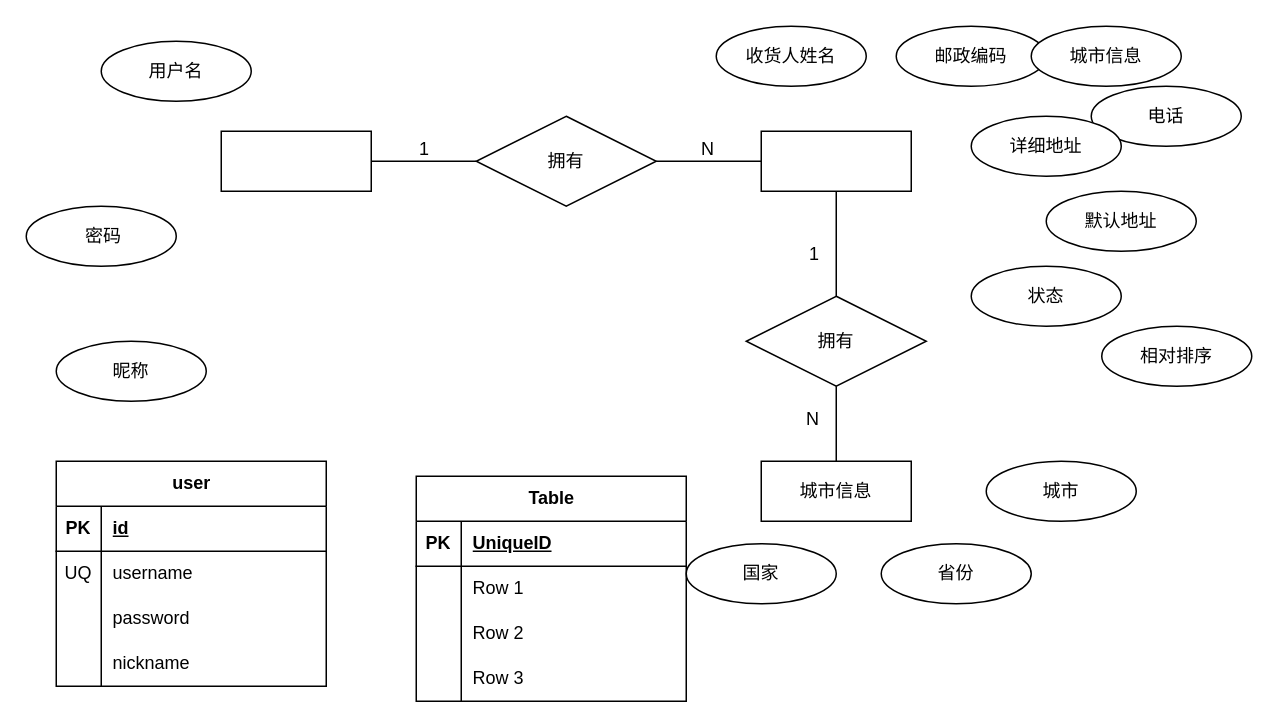
The diagram is 1278 pixels wide and 728 high, and some of its shapes have lost their labels. Each missing label, with the centre of its shape:
收货信息: point 835,160
用户: point 295,160
